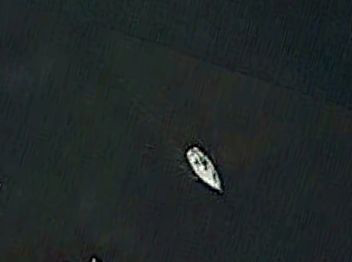boat: (185, 144, 224, 195)
